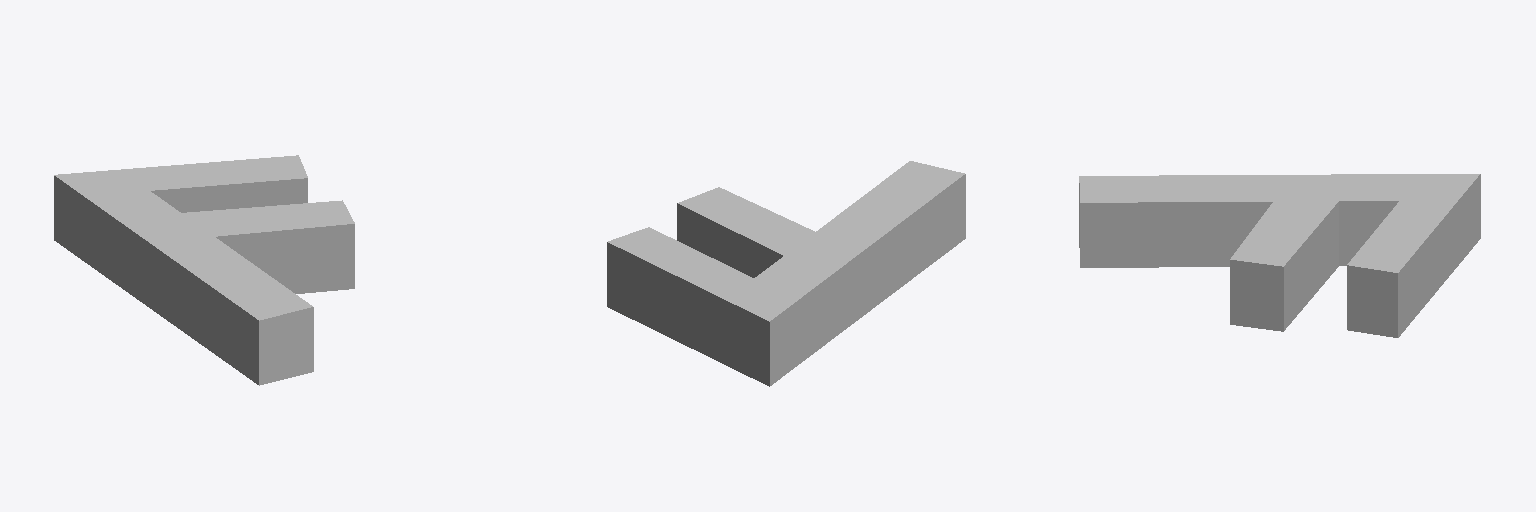
Rendered from Ansuz.obj.
The picture shows the model from 3 angles: view 1: azimuth 30°, elevation 25°; view 2: azimuth 150°, elevation 25°; view 3: azimuth 270°, elevation 25°; orthographic projection.
Visible parts, largest first — view 1: Ansuz; view 2: Ansuz; view 3: Ansuz.
Boxes of the visible parts, <box> form: Ansuz: <box>54,155,354,385</box>; Ansuz: <box>607,161,965,386</box>; Ansuz: <box>1079,174,1480,337</box>.
Bounding box in the file's own units: 0.337 × 0.1028 × 0.5741.